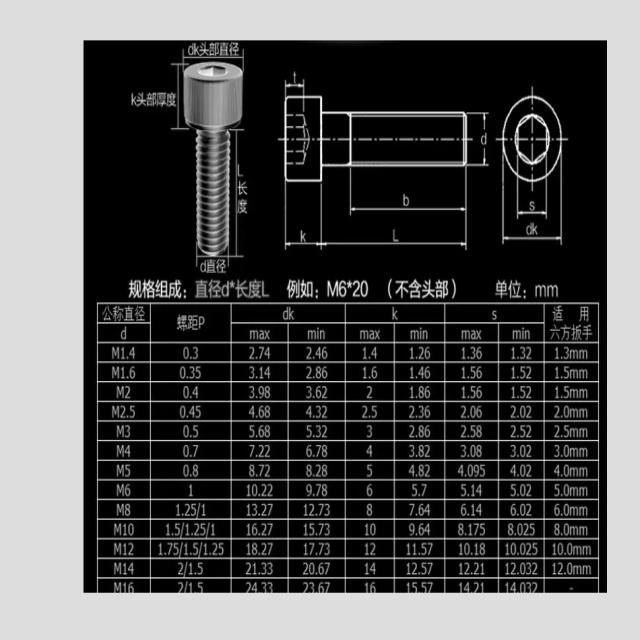marking_line: (319, 184, 469, 252), (349, 168, 468, 218), (501, 182, 563, 248), (283, 183, 323, 250), (231, 127, 245, 260), (515, 184, 549, 220), (468, 109, 489, 167), (182, 45, 245, 62), (170, 63, 182, 131), (284, 78, 305, 95)
numeric: (308, 561, 316, 576), (305, 365, 313, 379), (418, 443, 425, 459), (411, 484, 419, 498), (129, 365, 136, 380), (264, 366, 271, 381), (264, 404, 271, 419), (251, 483, 258, 498), (302, 561, 309, 576), (424, 364, 431, 379), (424, 404, 431, 419), (424, 443, 431, 458), (408, 502, 415, 517), (460, 483, 467, 498), (464, 541, 471, 556), (525, 346, 532, 361), (510, 424, 517, 439), (510, 444, 517, 459), (553, 502, 560, 517), (305, 405, 313, 418), (309, 580, 317, 593), (361, 406, 369, 419), (125, 385, 132, 399), (124, 503, 131, 517), (128, 522, 135, 536), (173, 542, 180, 556), (183, 444, 190, 458), (182, 424, 189, 438), (248, 385, 255, 399), (267, 522, 274, 536), (260, 523, 267, 537), (267, 561, 274, 575), (306, 346, 313, 360), (315, 365, 322, 379), (305, 385, 312, 399), (322, 385, 329, 399), (305, 484, 312, 498), (371, 365, 378, 379), (371, 404, 378, 418), (366, 424, 373, 438), (366, 444, 373, 458), (366, 483, 373, 497), (366, 503, 373, 517), (417, 346, 424, 360), (424, 424, 431, 438), (425, 464, 432, 478), (408, 522, 415, 536), (476, 365, 483, 379), (477, 483, 484, 497), (525, 385, 532, 399), (510, 503, 517, 517), (522, 522, 529, 536), (510, 542, 517, 556), (510, 561, 517, 575), (519, 562, 526, 576), (553, 444, 560, 458), (553, 522, 560, 536), (566, 562, 573, 576), (316, 403, 322, 419), (460, 365, 466, 381), (124, 483, 131, 496), (192, 444, 199, 457), (189, 406, 196, 419), (179, 405, 186, 418), (179, 366, 186, 379), (183, 346, 190, 359), (264, 425, 271, 438), (261, 504, 268, 517), (321, 464, 328, 477), (324, 504, 331, 517), (324, 580, 331, 593), (371, 346, 378, 359), (370, 543, 377, 556), (408, 465, 415, 478), (427, 542, 434, 555), (469, 347, 476, 360), (460, 406, 467, 419), (473, 523, 480, 536), (479, 542, 486, 555), (509, 405, 516, 418), (520, 405, 527, 418), (520, 425, 527, 438), (519, 484, 526, 497), (511, 484, 518, 497), (519, 543, 526, 556), (563, 366, 570, 379), (563, 425, 570, 438), (563, 503, 570, 516), (192, 424, 198, 439), (259, 424, 265, 439), (267, 542, 273, 557), (309, 522, 315, 537), (324, 522, 330, 537), (425, 522, 431, 537), (461, 502, 467, 517), (470, 425, 476, 440), (520, 346, 526, 361), (520, 384, 526, 399), (564, 404, 570, 419), (567, 542, 573, 557), (129, 347, 136, 359), (121, 404, 127, 418), (125, 424, 131, 438), (125, 464, 131, 478), (129, 542, 135, 556), (167, 542, 173, 556), (193, 543, 199, 557), (218, 542, 224, 556), (200, 523, 206, 537), (249, 365, 255, 379), (258, 346, 264, 360), (258, 405, 264, 419), (249, 425, 255, 439), (249, 444, 255, 458), (249, 463, 255, 477), (268, 503, 274, 517), (246, 561, 252, 575), (252, 581, 259, 593), (322, 346, 328, 360), (322, 365, 328, 379), (306, 424, 312, 438), (306, 444, 312, 458), (318, 523, 324, 537), (324, 542, 330, 556), (367, 385, 373, 399), (367, 464, 373, 478), (370, 524, 377, 536), (409, 366, 415, 380), (409, 405, 415, 419), (409, 444, 415, 458), (419, 405, 425, 419), (418, 385, 424, 399), (425, 346, 431, 360), (418, 502, 424, 516), (425, 504, 431, 518), (421, 542, 427, 556), (461, 346, 467, 360), (476, 346, 482, 360), (470, 365, 476, 379), (471, 385, 477, 399), (476, 405, 482, 419), (460, 424, 466, 438), (461, 444, 467, 458), (458, 523, 464, 537), (470, 444, 476, 458), (476, 445, 483, 457), (476, 503, 482, 517), (474, 561, 480, 575), (464, 562, 470, 576), (510, 386, 516, 400), (526, 424, 532, 438), (519, 443, 525, 457), (526, 444, 532, 458), (510, 464, 516, 478), (510, 581, 517, 593), (526, 562, 532, 576), (532, 562, 538, 576), (532, 543, 538, 557), (525, 542, 531, 556), (563, 445, 570, 457), (553, 465, 560, 477), (563, 484, 569, 498), (130, 405, 136, 418), (125, 444, 131, 457), (128, 563, 134, 576), (174, 522, 180, 535), (191, 503, 197, 516), (193, 464, 199, 477), (184, 464, 190, 477), (195, 406, 201, 419), (189, 365, 195, 378), (249, 346, 255, 359), (259, 386, 265, 399), (261, 484, 267, 497), (268, 483, 274, 496), (252, 503, 258, 516), (252, 523, 258, 536), (261, 544, 267, 557), (252, 543, 258, 556), (316, 385, 322, 398), (315, 425, 321, 438), (322, 425, 328, 438), (322, 444, 328, 457), (306, 464, 312, 477), (315, 464, 321, 477), (322, 484, 328, 497), (318, 503, 324, 516), (309, 504, 315, 517), (318, 543, 324, 556), (318, 562, 324, 575), (324, 562, 330, 575), (370, 562, 376, 575), (409, 347, 415, 360), (408, 425, 414, 438), (418, 425, 424, 438), (418, 366, 424, 379), (421, 485, 427, 498), (418, 523, 424, 536), (412, 562, 418, 575), (421, 562, 427, 575), (427, 562, 433, 575), (477, 386, 483, 399), (470, 405, 476, 418), (468, 465, 474, 478), (480, 465, 486, 478), (476, 425, 482, 438), (480, 523, 486, 536), (526, 366, 532, 379), (520, 366, 526, 379), (526, 406, 532, 419), (526, 465, 532, 478), (520, 464, 526, 477), (526, 484, 532, 497), (520, 503, 526, 516), (526, 503, 532, 516), (529, 523, 535, 536), (508, 523, 514, 536), (563, 386, 569, 399), (554, 405, 560, 418), (554, 425, 560, 438), (563, 523, 569, 536), (558, 562, 564, 575), (531, 582, 538, 593), (196, 365, 201, 380), (252, 561, 257, 576), (413, 542, 418, 557), (458, 542, 463, 557), (505, 561, 510, 576), (128, 582, 134, 594), (183, 386, 189, 398), (315, 347, 321, 359), (315, 484, 321, 496), (302, 581, 308, 593), (364, 563, 370, 575), (412, 581, 418, 593), (458, 465, 464, 477), (474, 465, 480, 477), (458, 563, 464, 575), (212, 542, 217, 556), (185, 503, 190, 517), (265, 346, 270, 360), (259, 445, 264, 459), (247, 483, 252, 497), (261, 561, 266, 575), (322, 405, 327, 419), (303, 503, 308, 517), (309, 542, 314, 556), (419, 464, 424, 478), (462, 385, 467, 399), (468, 522, 473, 536), (471, 484, 476, 498), (471, 503, 476, 517), (474, 542, 479, 556), (473, 582, 480, 592), (464, 582, 471, 592), (518, 522, 523, 536), (558, 543, 563, 557), (261, 582, 267, 593), (245, 582, 251, 593), (318, 582, 324, 593), (371, 582, 377, 593), (422, 581, 428, 592), (520, 582, 526, 593), (178, 562, 183, 575), (199, 562, 204, 575), (203, 543, 208, 556), (166, 523, 171, 536), (176, 504, 181, 517), (188, 484, 193, 497), (193, 386, 198, 399), (193, 346, 198, 359), (249, 406, 254, 419), (265, 445, 270, 458), (259, 464, 264, 477), (265, 464, 270, 477), (246, 523, 251, 536), (303, 523, 308, 536), (303, 543, 308, 556), (409, 385, 414, 398), (425, 386, 430, 399), (406, 543, 411, 556), (511, 347, 516, 360), (505, 543, 510, 556), (555, 347, 560, 360), (564, 346, 569, 359), (555, 368, 560, 381), (554, 386, 559, 399), (554, 484, 559, 497), (552, 563, 557, 576), (159, 541, 163, 557), (123, 541, 127, 556), (178, 582, 184, 592), (198, 581, 203, 593), (194, 524, 199, 536), (259, 367, 264, 379), (265, 386, 270, 398), (315, 445, 321, 455), (364, 543, 369, 555), (480, 563, 485, 575), (480, 581, 485, 593), (526, 581, 531, 593), (564, 464, 569, 476), (121, 365, 125, 379), (123, 522, 127, 536), (247, 504, 251, 518), (247, 542, 251, 556), (512, 366, 516, 380), (188, 582, 193, 593), (268, 582, 273, 593), (428, 581, 433, 592), (504, 581, 509, 592), (121, 347, 125, 360), (189, 562, 193, 575), (211, 524, 215, 537), (186, 523, 190, 536), (363, 366, 367, 379), (365, 523, 369, 536), (407, 562, 411, 575), (553, 543, 557, 556), (123, 564, 127, 576), (202, 504, 206, 516), (363, 347, 367, 359), (406, 581, 410, 593), (123, 582, 127, 593), (365, 582, 369, 593), (459, 582, 463, 593), (184, 543, 187, 556)
